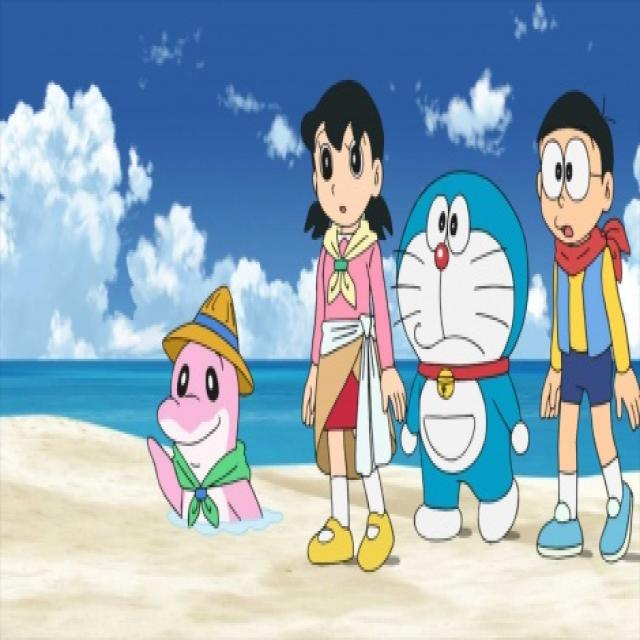doraemon: (389, 150, 536, 427)
nobita: (526, 75, 638, 298)
shizuka: (292, 72, 412, 272)
